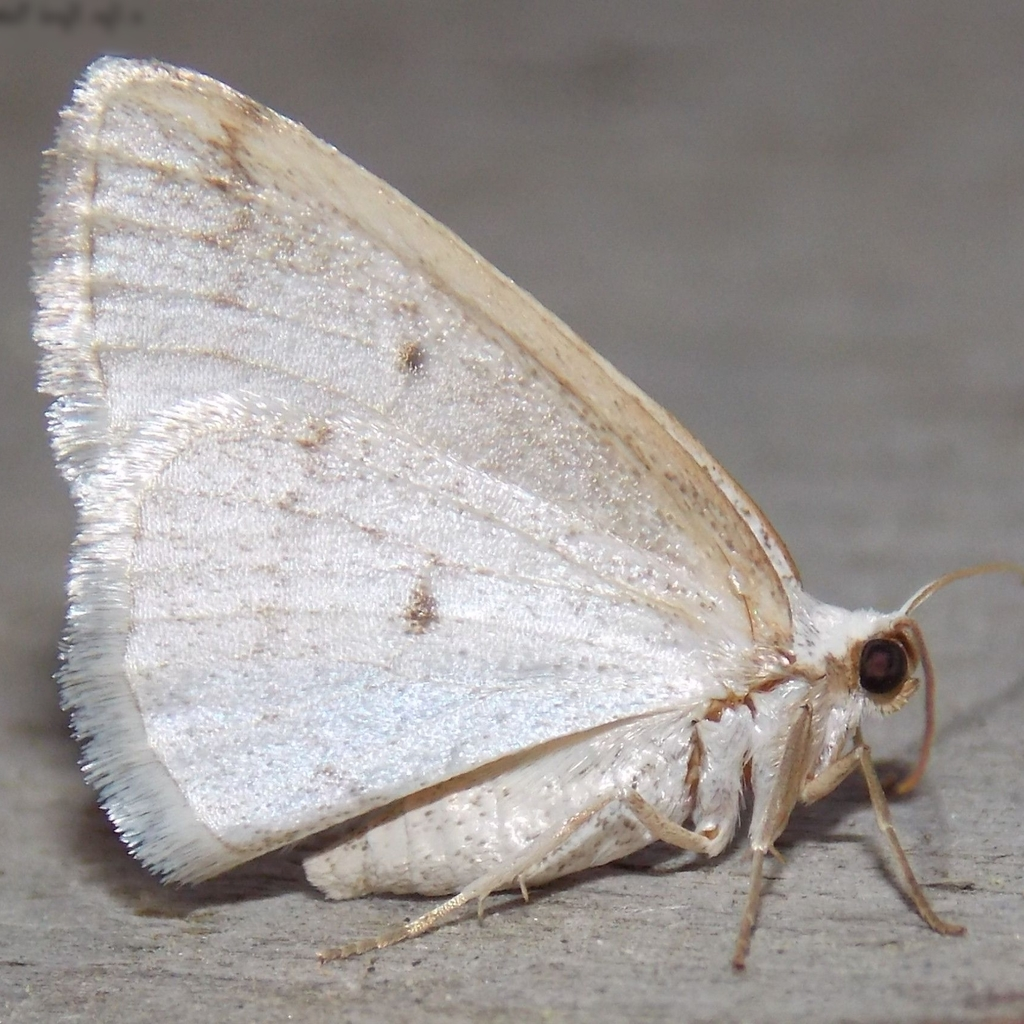Butterfly: (29, 49, 965, 959)
